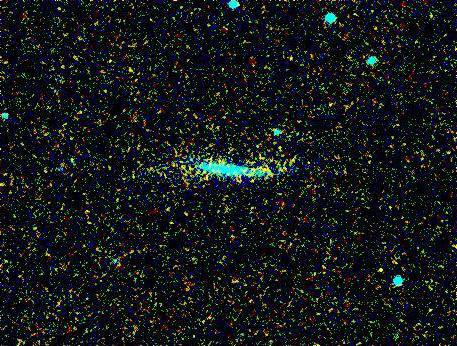star: (366, 256, 396, 286)
